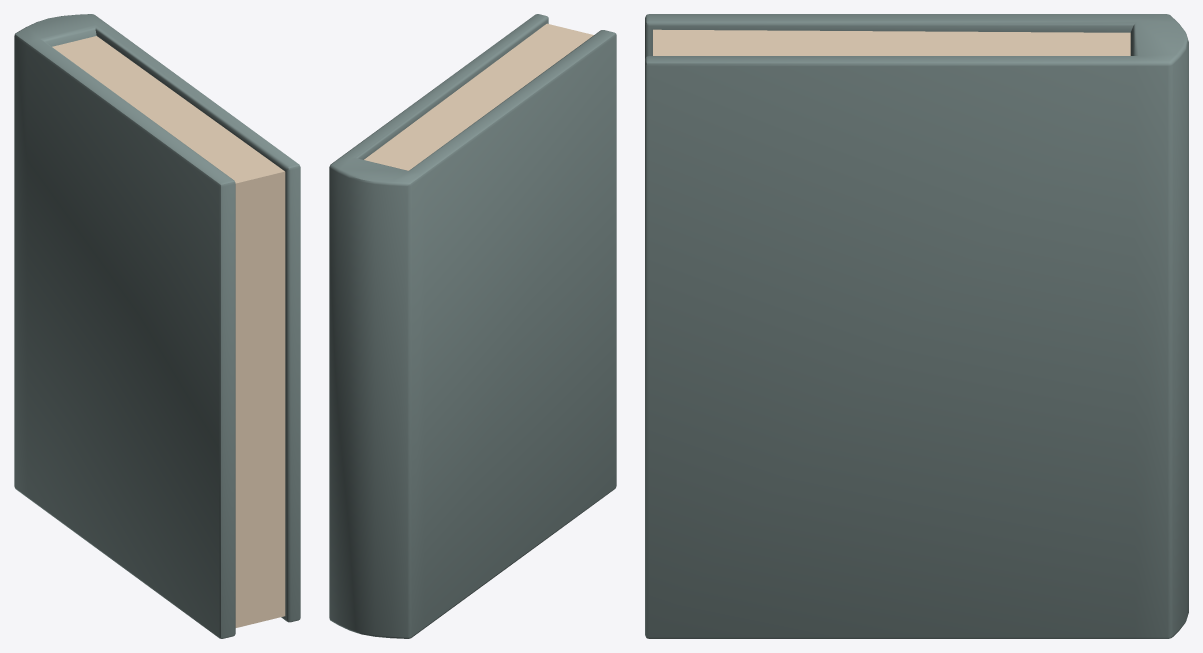
Rendered from book1.fbx.
3 views of the same model, side by side, from view 1: azimuth 30°, elevation 25°; view 2: azimuth 150°, elevation 25°; view 3: azimuth 270°, elevation 25° (orthographic). The views are drawn at different scales.
Parts seen in each view (by area): view 1: book; view 2: book; view 3: book.
Part boxes in pixels (x1=…): book: x1=14, y1=14, x2=300, y2=638; book: x1=329, y1=14, x2=616, y2=638; book: x1=645, y1=14, x2=1188, y2=638.
Size of the model in its own units: 22.09 by 118 by 101.
